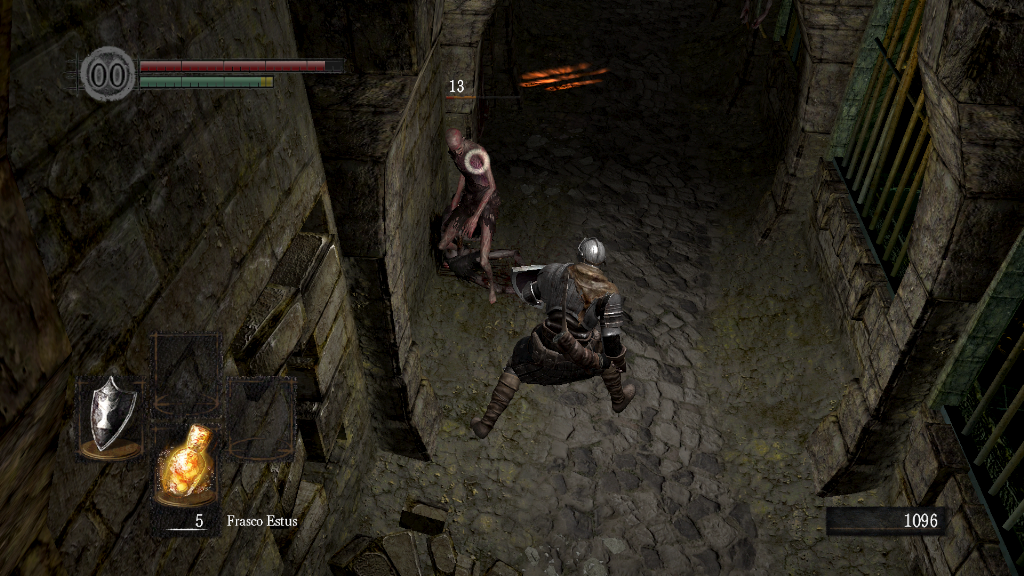health: (138, 58, 343, 71)
hollow: (439, 126, 501, 307)
humanity: (80, 45, 136, 102)
player: (469, 235, 637, 438)
souls: (825, 506, 945, 536)
stamina: (138, 74, 274, 88)
